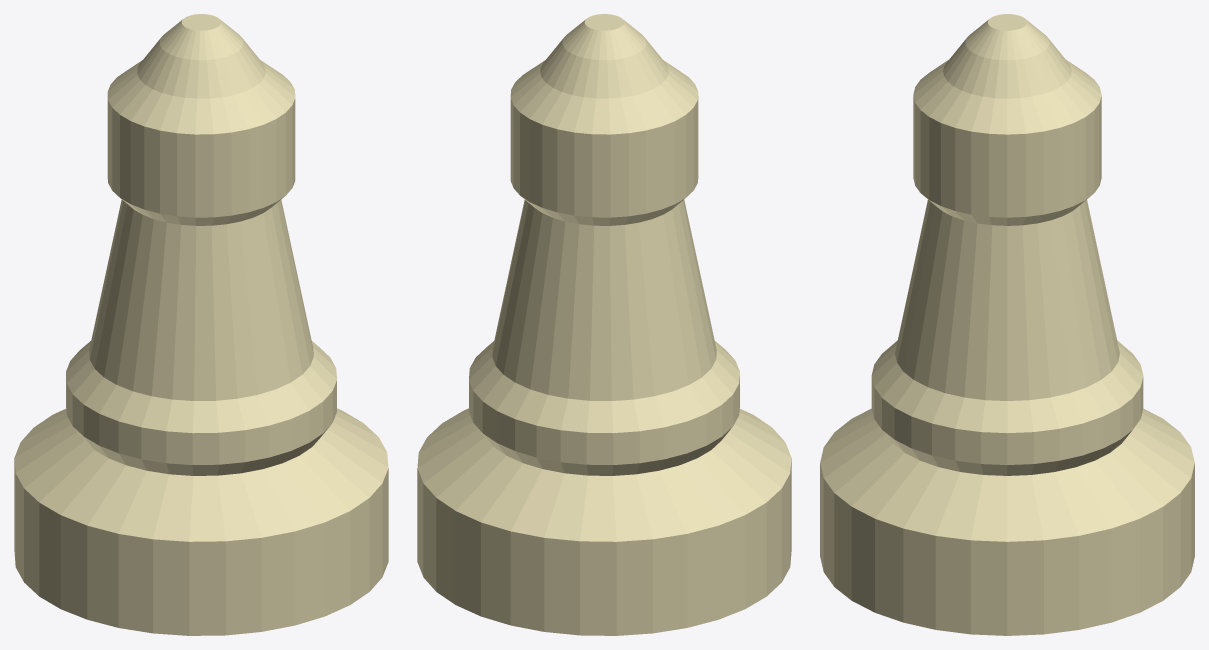
3 views of the same model, side by side, from view 1: azimuth 30°, elevation 25°; view 2: azimuth 150°, elevation 25°; view 3: azimuth 270°, elevation 25° (orthographic).
Visible parts, largest first — view 1: Cylinder; view 2: Cylinder; view 3: Cylinder.
Boxes of the visible parts, x1,y1,x2,y2 form: Cylinder: (14, 14, 388, 635); Cylinder: (417, 14, 791, 635); Cylinder: (820, 14, 1194, 635).
Size of the model in its own units: 0.6164 by 0.97 by 0.6164.
